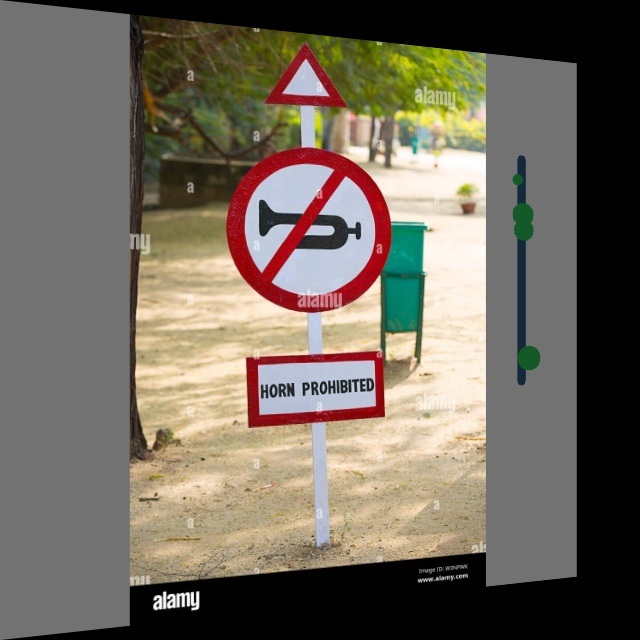Horn_Prohibited: (231, 144, 388, 314)
